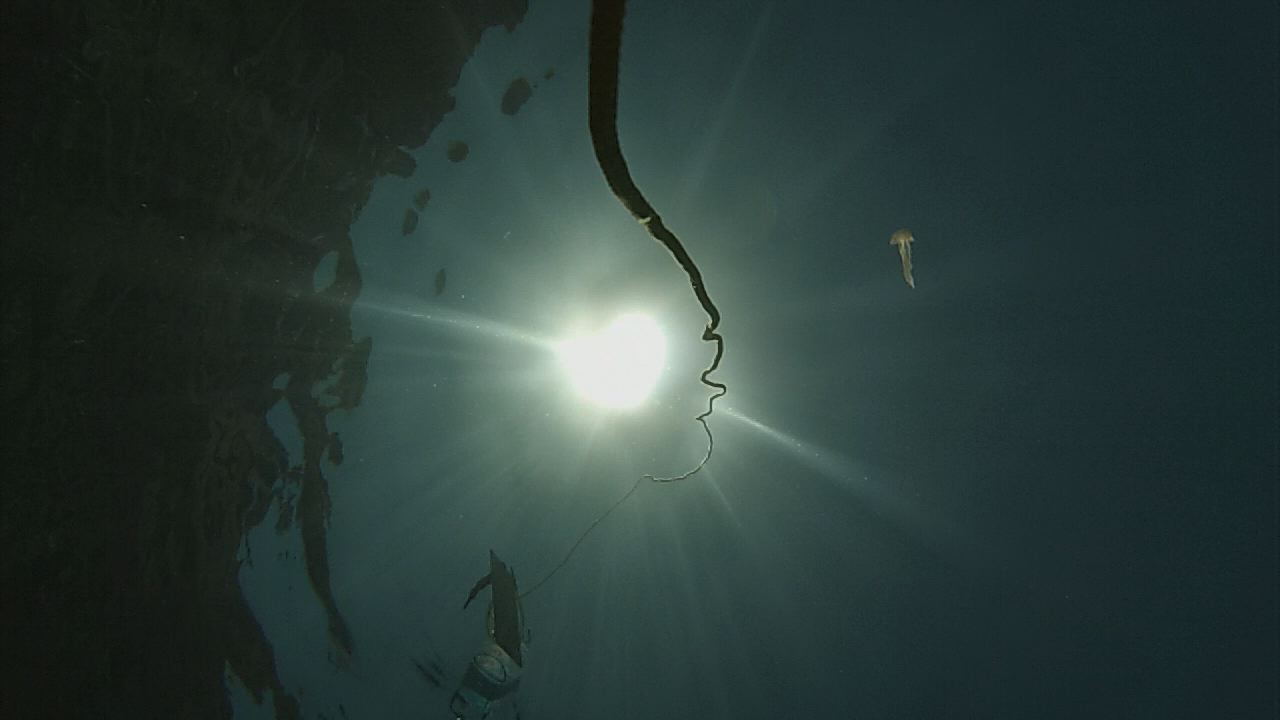pelagia: (887, 224, 922, 294)
